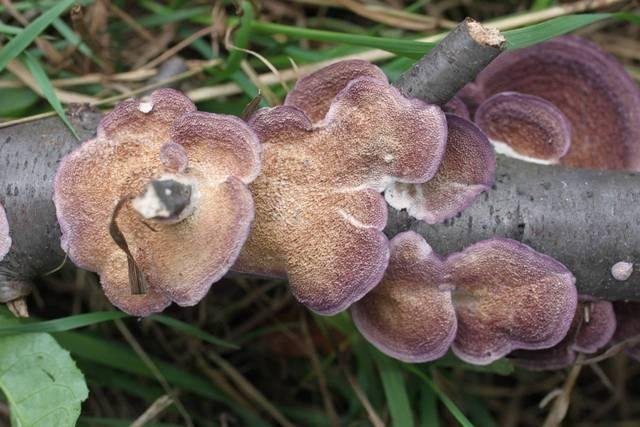poisonous_mushroom: (231, 57, 449, 316), (51, 86, 263, 317), (359, 231, 640, 383), (399, 28, 640, 182), (0, 101, 103, 318)
